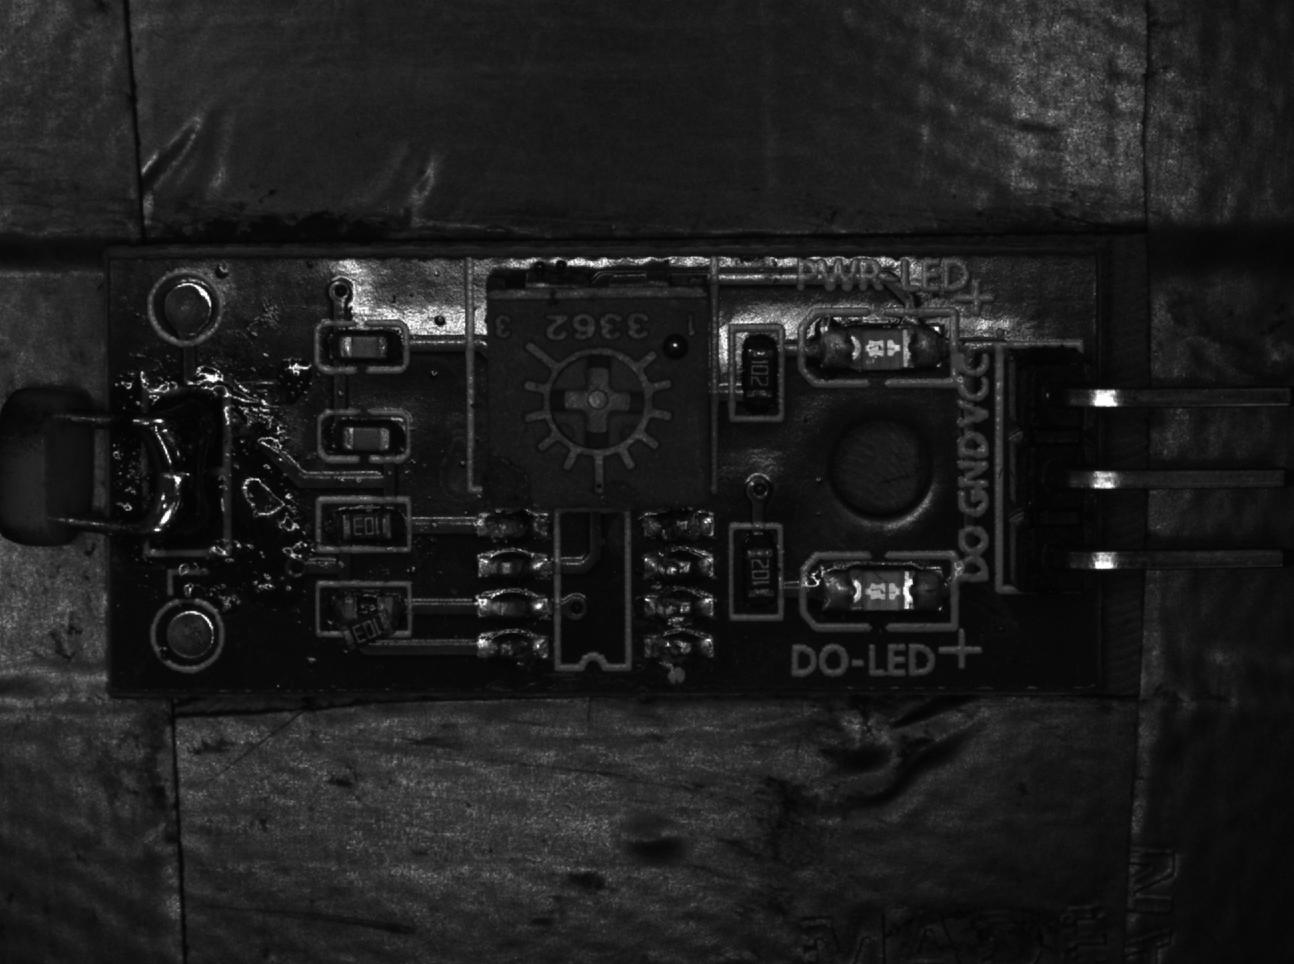bridge: (153, 379, 236, 560)
lifted: (310, 581, 407, 651)
ok: (314, 496, 414, 554), (728, 523, 784, 623), (316, 414, 415, 466), (735, 321, 784, 421), (313, 320, 404, 370)
